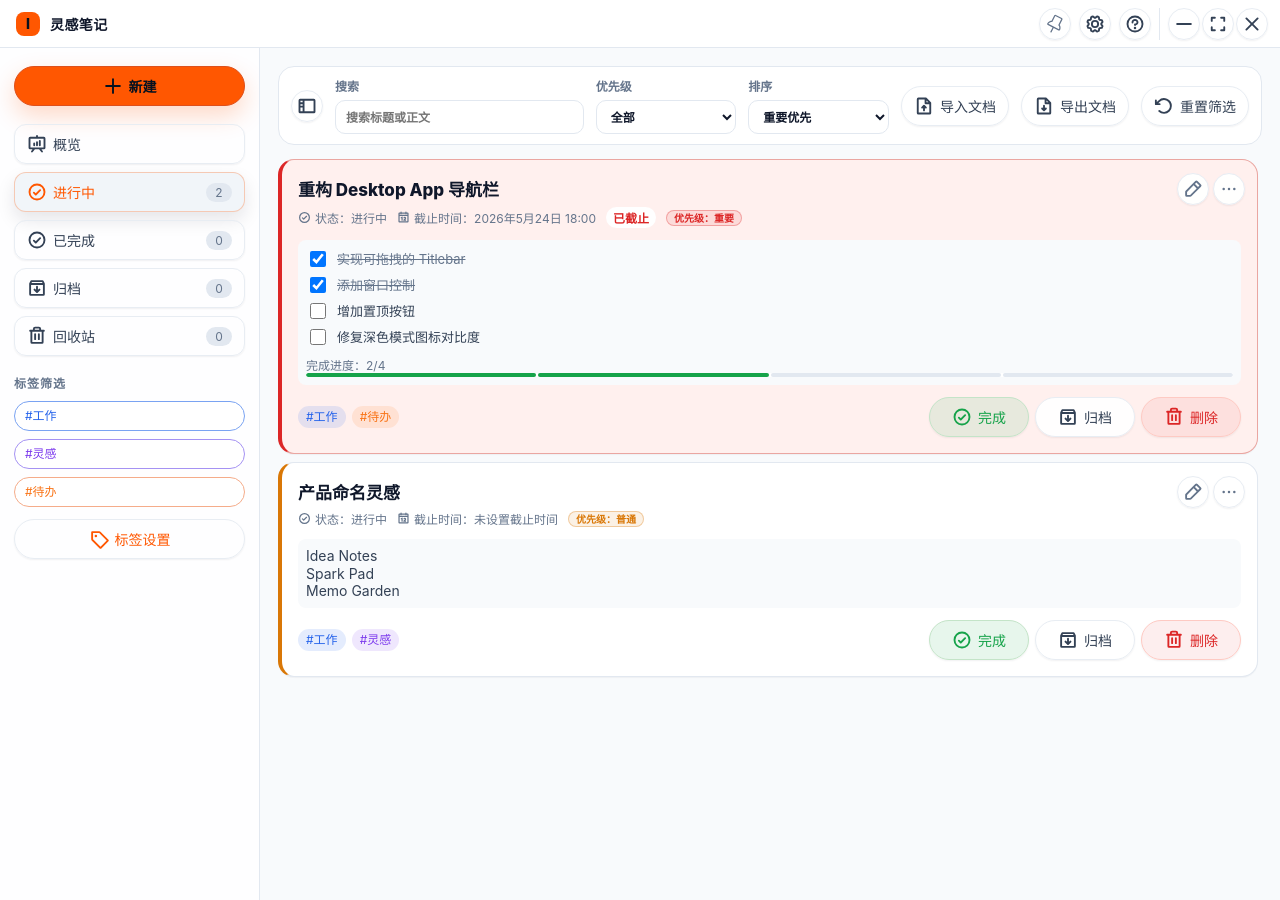
Test: App card actions › 更多操作菜单复制标题成功后显示短成功提示
The image size is (1280, 900).
Click the 1st button named "更多操作" at (1229,188), box [1213,172,1245,204]
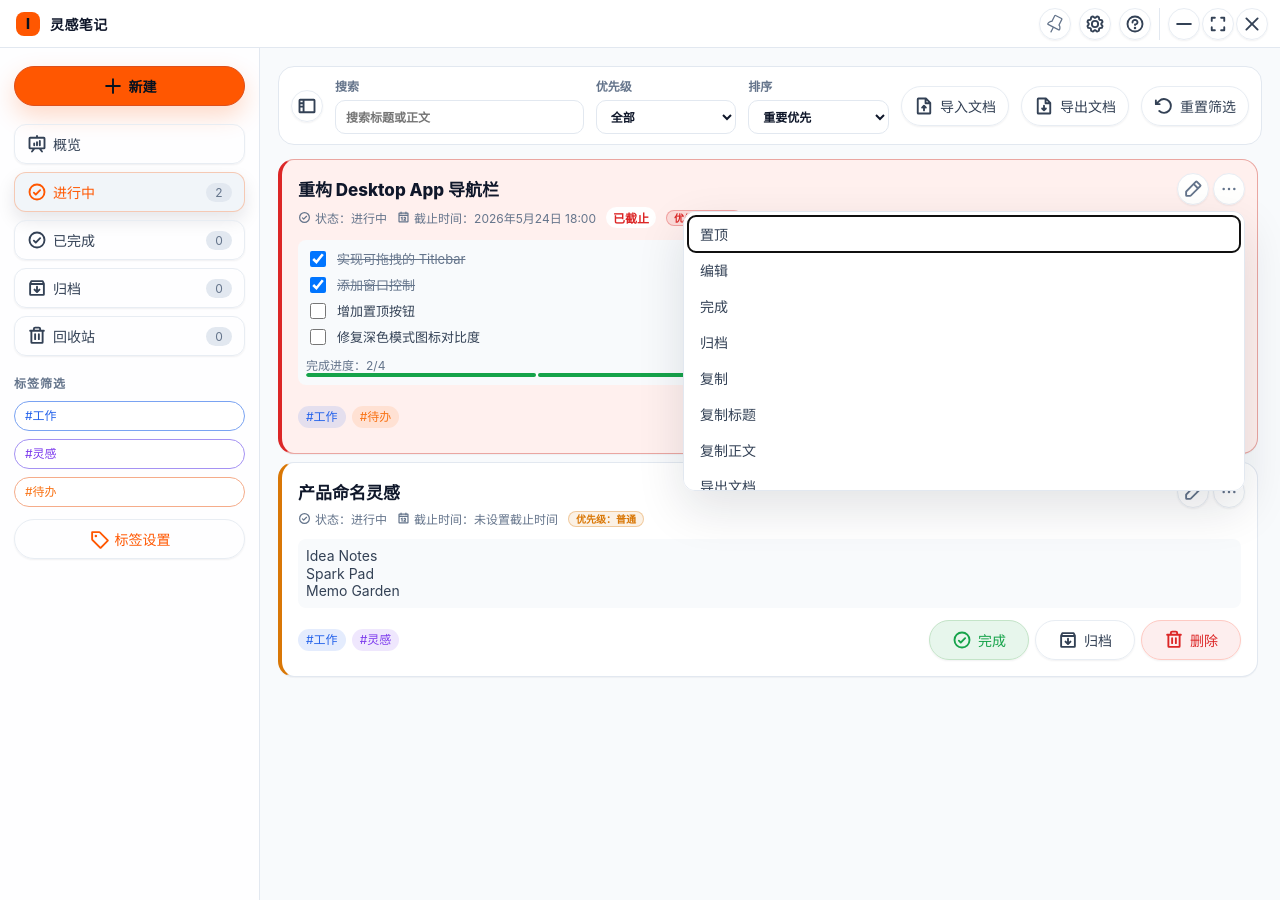
Click the menu item "复制标题" at (728,414), box [688,396,1240,432]
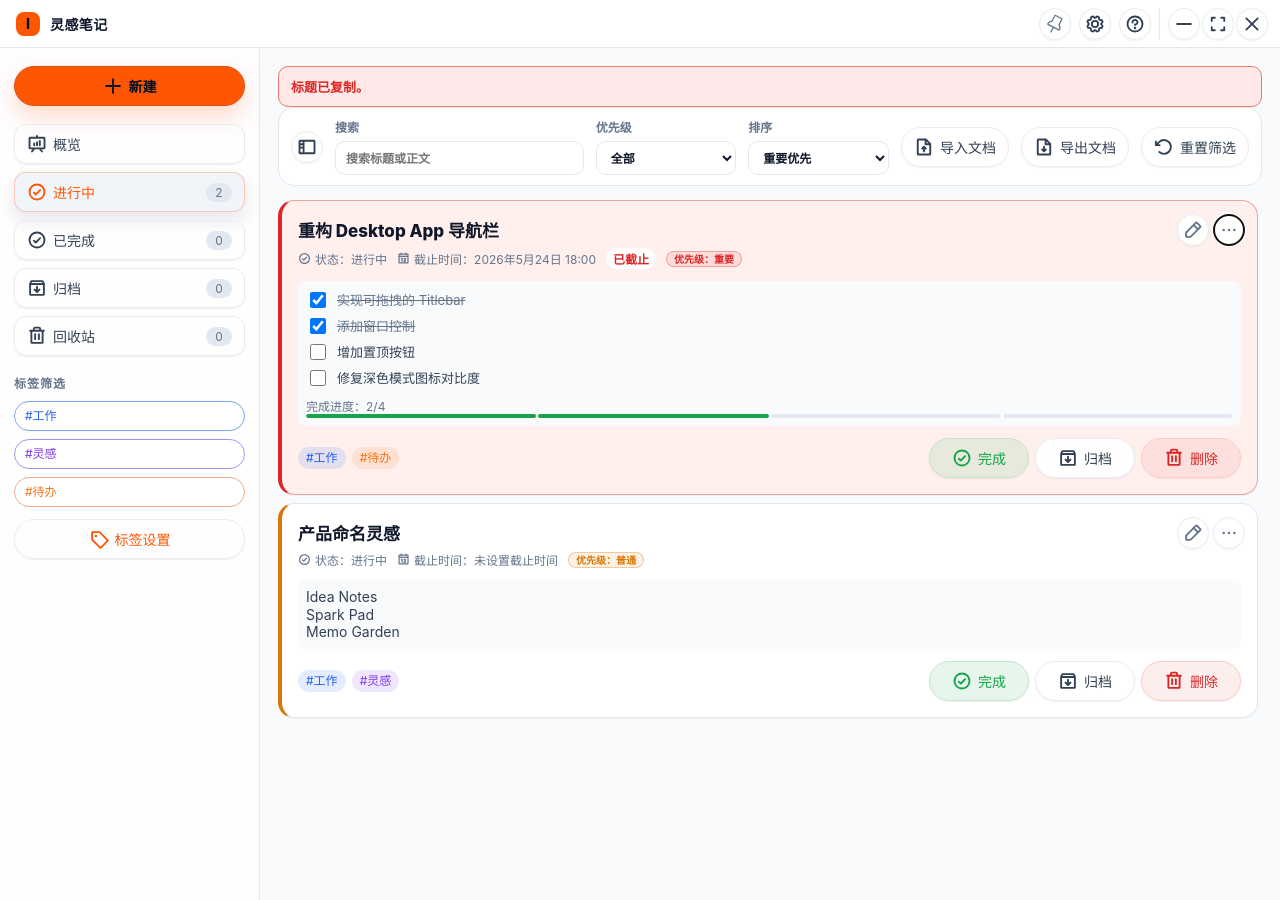
Expected: the message reads "标题已复制。", [291,79,369,95]
